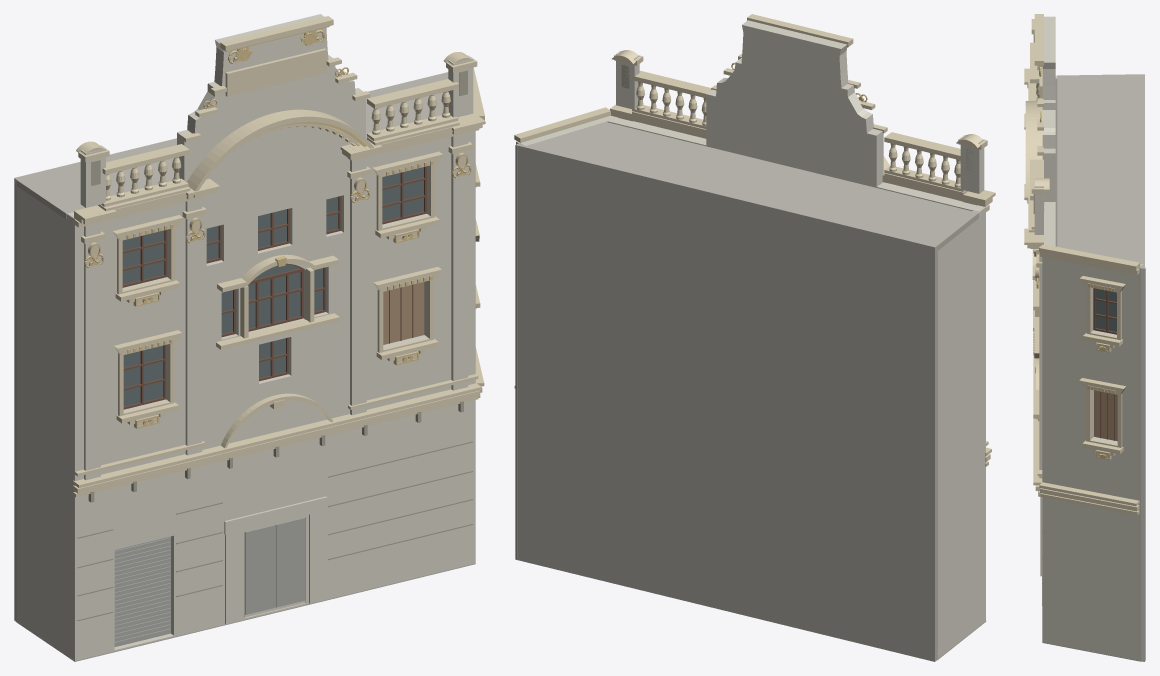
The model's file is huangpu-renji-silversmith-east-front-web.glb.
The picture shows the model from 3 angles, left to right: view 1: azimuth 30°, elevation 25°; view 2: azimuth 150°, elevation 25°; view 3: azimuth 270°, elevation 25°; orthographic projection. The views are drawn at different scales.
Parts seen in each view (by area): view 1: 仁记珠宝银楼中华路东立面; view 2: 仁记珠宝银楼中华路东立面; view 3: 仁记珠宝银楼中华路东立面.
Boxes of the visible parts, box(x1,y1,x2,y2) form: 仁记珠宝银楼中华路东立面: box(14, 14, 485, 661); 仁记珠宝银楼中华路东立面: box(514, 14, 995, 661); 仁记珠宝银楼中华路东立面: box(1024, 14, 1145, 661).
Bounding box in the file's own units: 13.2 × 16.19 × 3.43.
